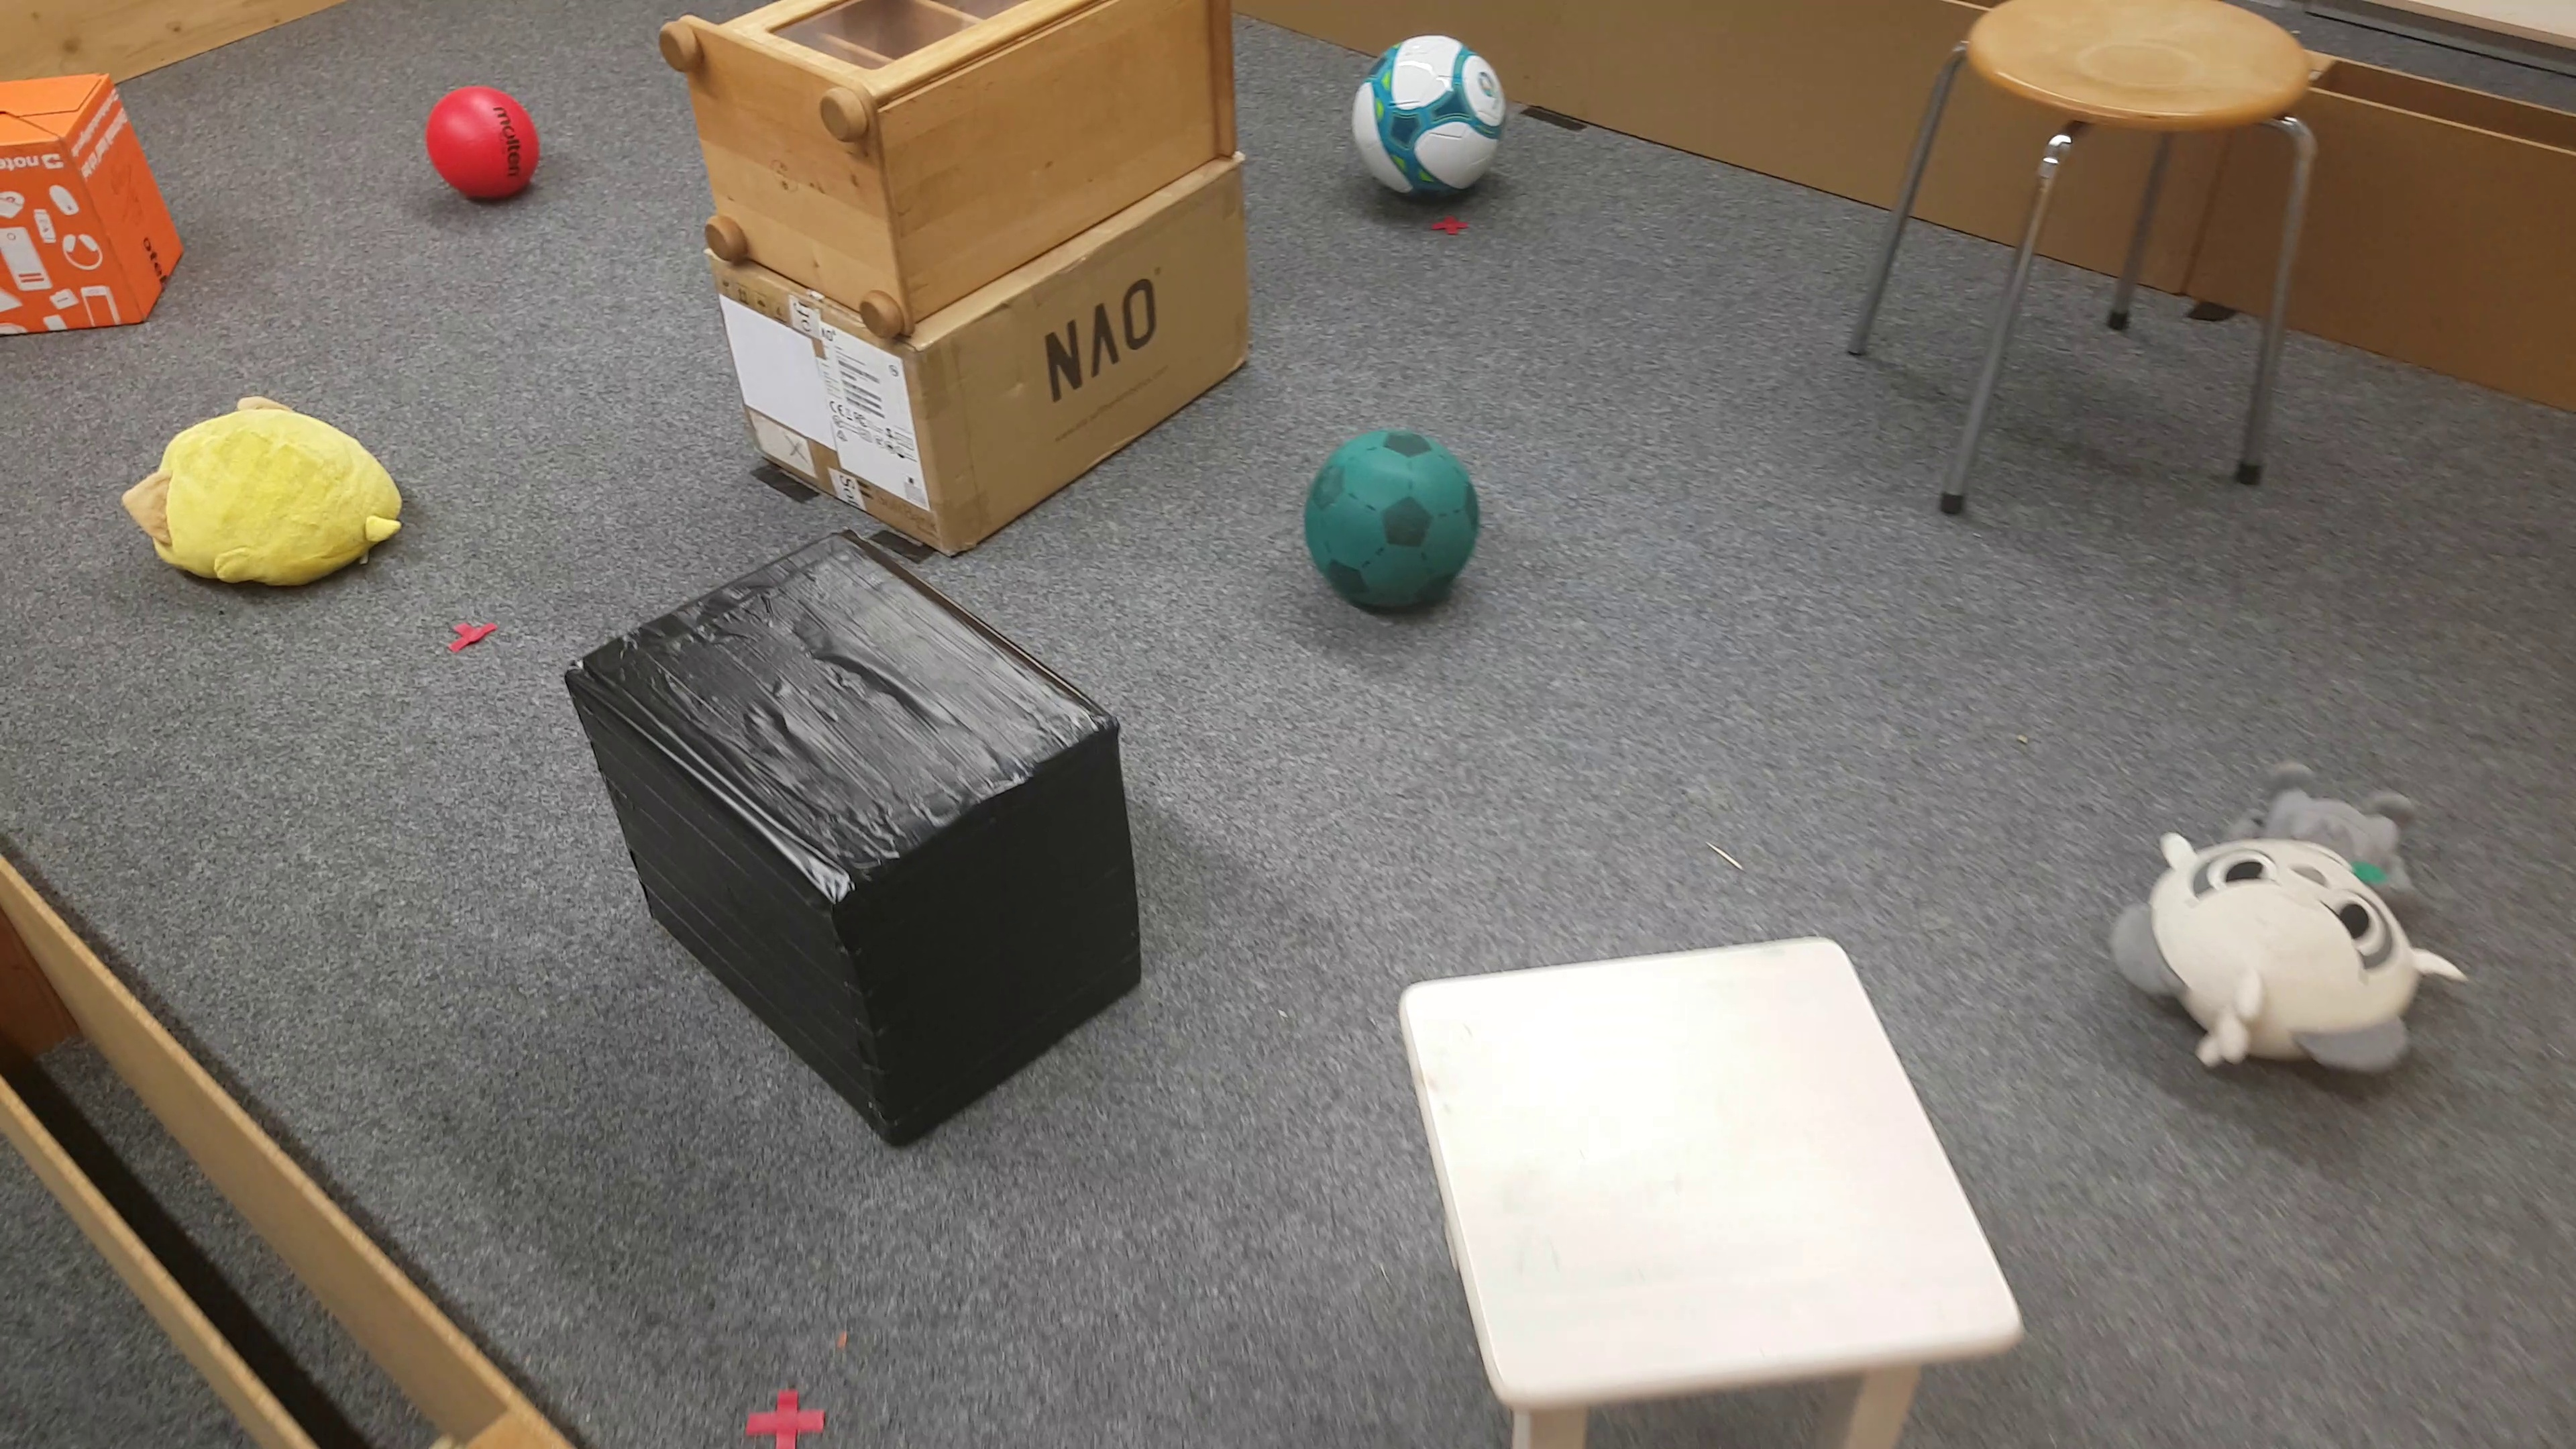grasp: (2121, 755, 2459, 1088), (126, 393, 418, 589)
kick: (1318, 426, 1479, 612), (1346, 30, 1509, 203), (430, 78, 540, 211)
push: (563, 536, 1157, 1148), (0, 76, 184, 333)
